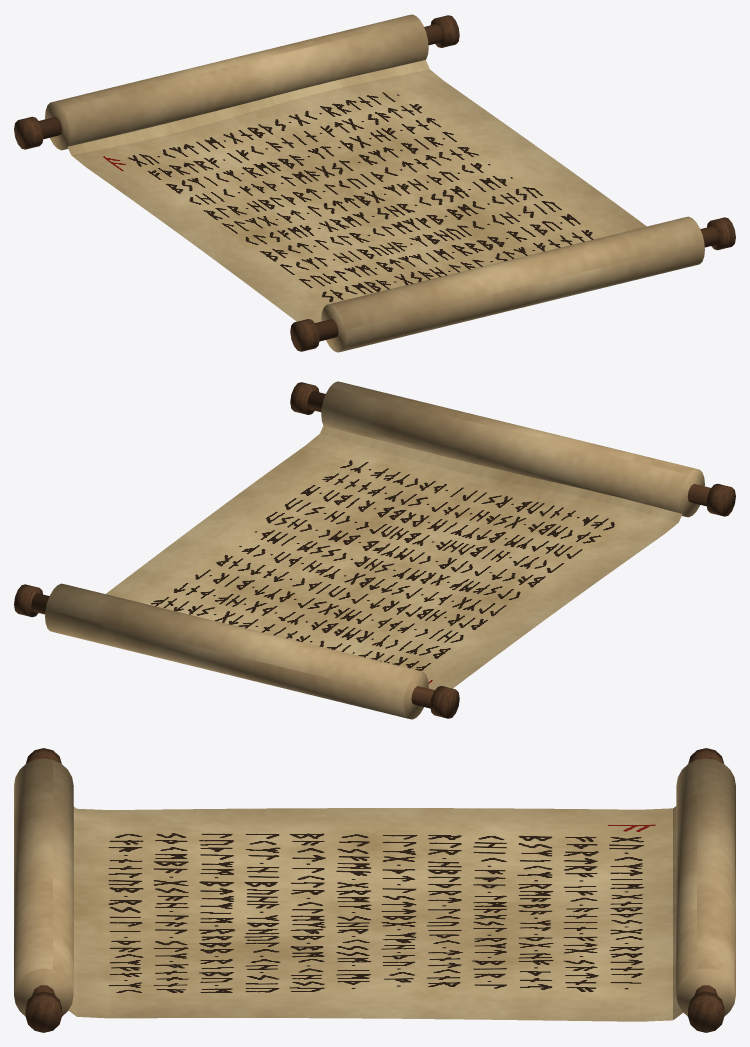
File: schoolscroll.glb
3 views of the same model, one above another, from view 1: azimuth 30°, elevation 25°; view 2: azimuth 150°, elevation 25°; view 3: azimuth 270°, elevation 25° (orthographic). The views are drawn at different scales.
Parts seen in each view (by area): view 1: sheet, roll-1, roll1, knob1-1, knob-1-1, rod-1, rod1, knob-11, knob11; view 2: sheet, roll1, roll-1, knob-1-1, knob1-1, rod1, rod-1, knob11, knob-11; view 3: sheet, roll1, roll-1, knob11, knob-11.
Boxes of the visible parts, x1,y1,x2,y2 form: sheet: (67, 60, 646, 322); roll-1: (321, 216, 704, 352); roll1: (45, 14, 428, 150); knob1-1: (14, 116, 43, 149); knob-1-1: (290, 319, 319, 351); rod-1: (315, 226, 718, 341); rod1: (39, 24, 442, 139); knob-11: (707, 217, 735, 250); knob11: (430, 15, 459, 47); sheet: (105, 425, 682, 689); roll1: (45, 583, 428, 719); roll-1: (321, 381, 704, 517); knob-1-1: (706, 483, 735, 516); knob1-1: (430, 686, 459, 718); rod1: (31, 593, 434, 708); rod-1: (307, 391, 710, 506); knob11: (14, 584, 42, 617); knob-11: (290, 382, 319, 414); sheet: (68, 806, 683, 1021); roll1: (676, 758, 735, 1016); roll-1: (14, 758, 73, 1016); knob11: (688, 991, 724, 1032); knob-11: (25, 991, 61, 1032).
Bounding box in the file's own units: 0.36 × 0.037 × 0.436.
3 materials, 3 textured.
